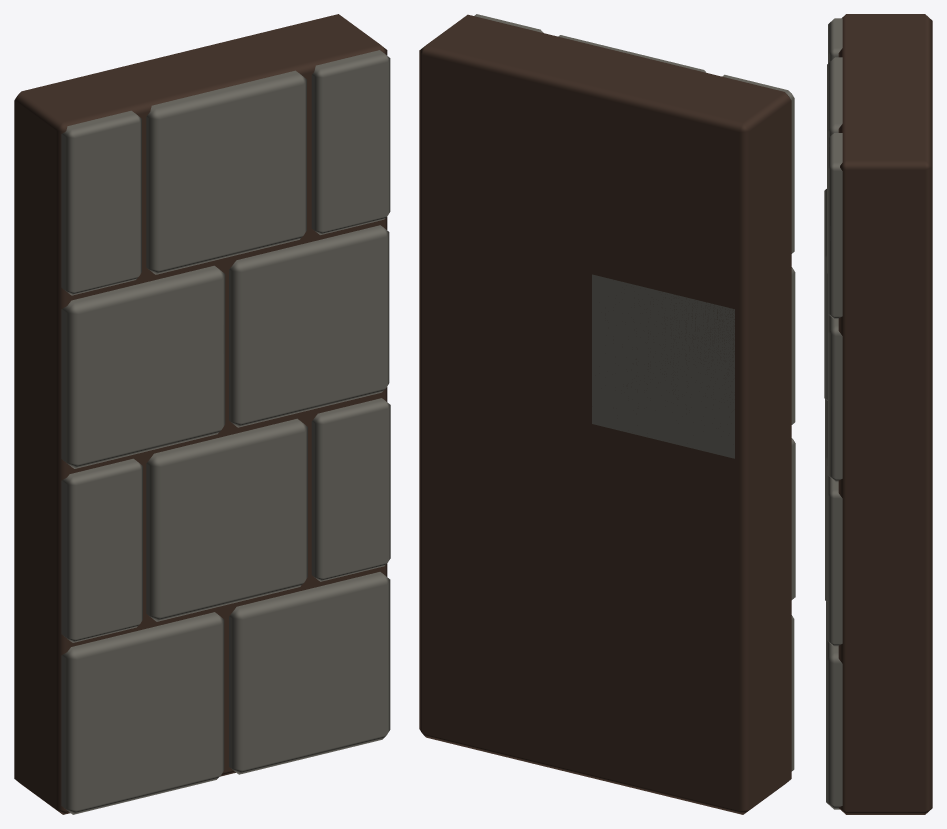
Rendered from village-wall-retaining.6aee864a.glb.
The picture shows the model from 3 angles, left to right: view 1: azimuth 30°, elevation 25°; view 2: azimuth 150°, elevation 25°; view 3: azimuth 270°, elevation 25°; orthographic projection. The views are drawn at different scales.
Visible parts, largest first — view 1: body; view 2: body; view 3: body.
Part boxes in pixels (box(x1,y1,x2,y2)): body: box(14, 14, 390, 814); body: box(419, 14, 795, 814); body: box(824, 14, 932, 814).
Size of the model in its own units: 1 by 2 by 0.3.
